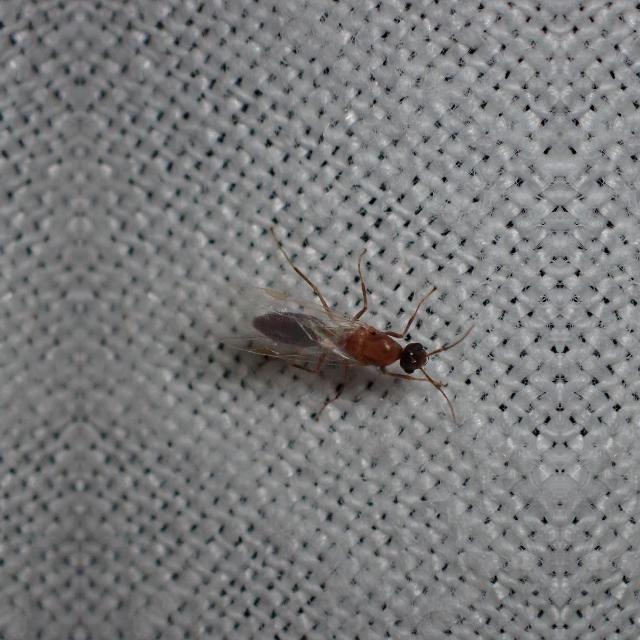Camponotus: (228, 256, 464, 422)
